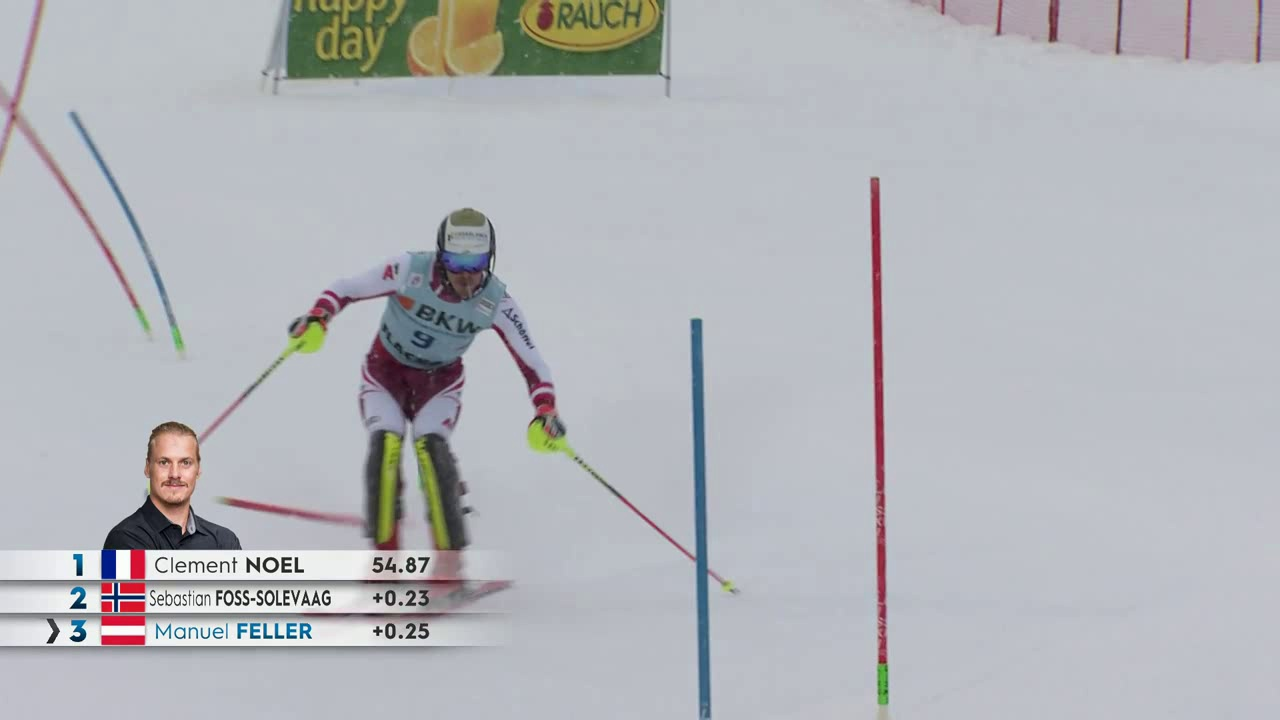a1: (384, 263, 407, 283)
rauch: (523, 1, 657, 71)
